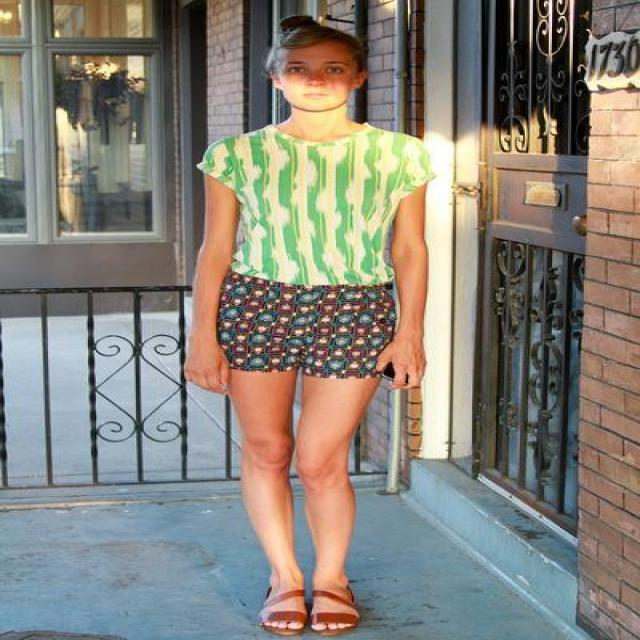shirt: (196, 115, 434, 286)
shoe: (260, 586, 370, 626)
shorts: (216, 269, 395, 382)
